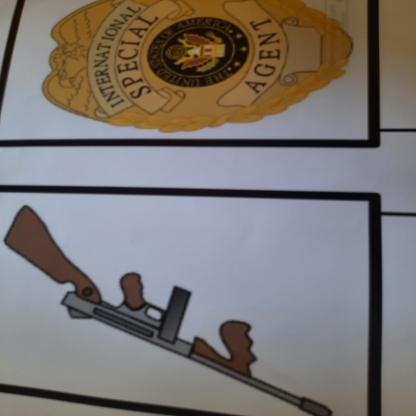Bootlegger: (3, 196, 352, 416)
G-man: (28, 1, 369, 139)
